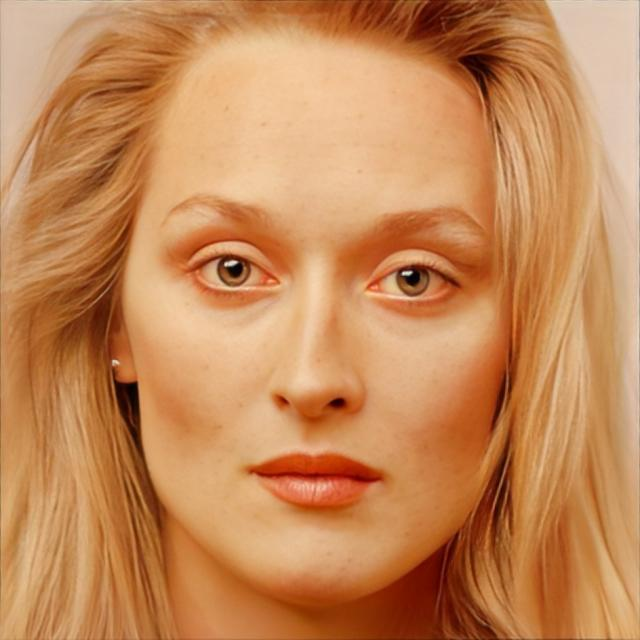surprise: (121, 22, 516, 602)
